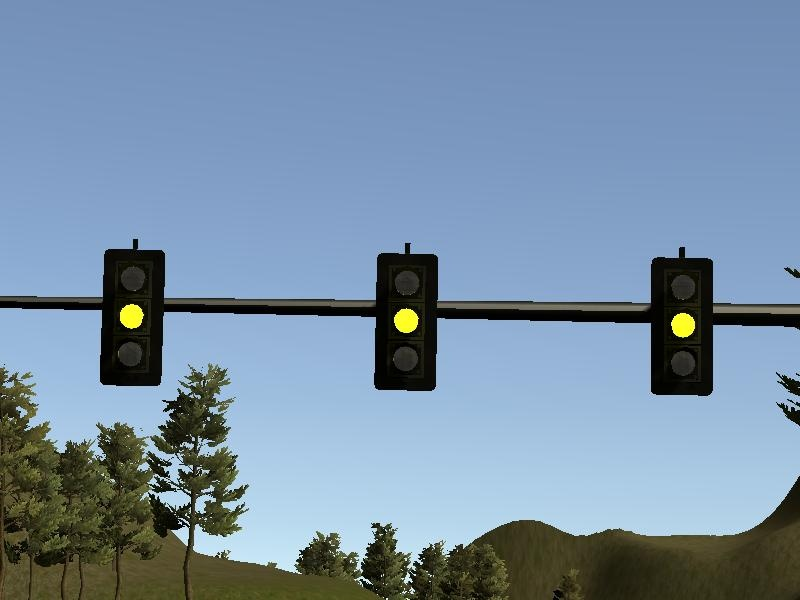Yellow: (375, 252, 440, 390), (653, 260, 710, 398), (104, 249, 158, 386)
